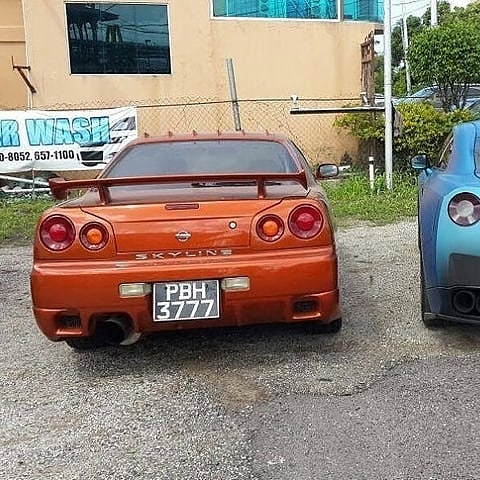License-Plate: (153, 283, 217, 320)
